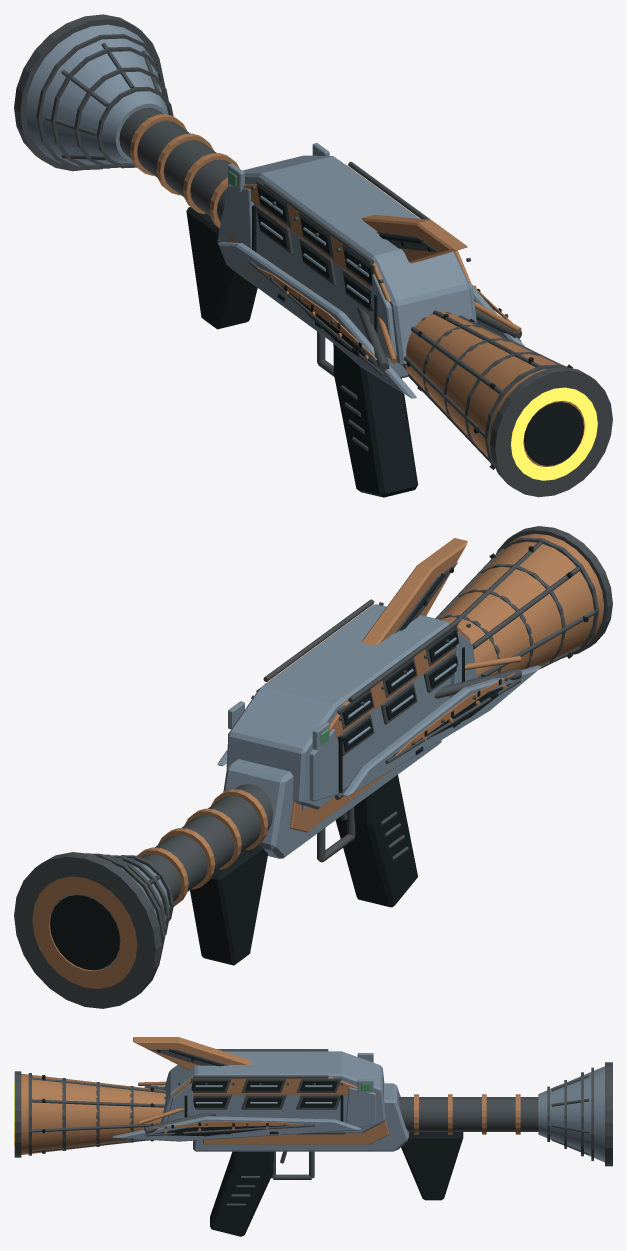
File: kick_1.glb
3 renders of one model, top to bottom at view 1: azimuth 30°, elevation 25°; view 2: azimuth 150°, elevation 25°; view 3: azimuth 270°, elevation 25°, orthographic. The views are drawn at different scales.
Parts seen in each view (by area): view 1: Weapon_kick_v1; view 2: Weapon_kick_v1; view 3: Weapon_kick_v1.
Part boxes in pixels (x1,y1,x2,y2): Weapon_kick_v1: (14,14,612,497); Weapon_kick_v1: (14,526,612,1008); Weapon_kick_v1: (14,1037,612,1236).
Size of the model in its own units: 0.156 by 0.3139 by 0.884.
